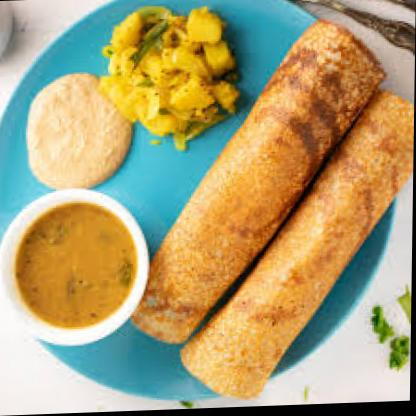dosa: (132, 22, 388, 345), (181, 94, 415, 404)
